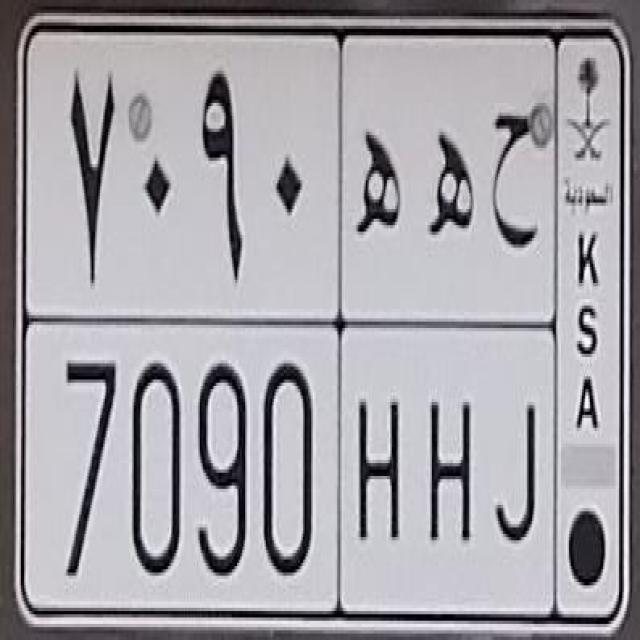license_plate: (14, 14, 631, 633)
